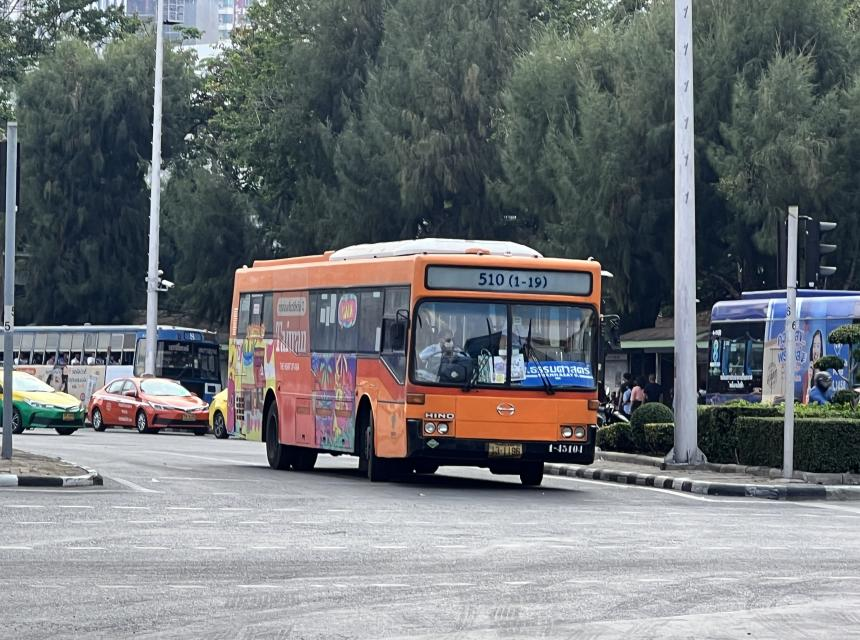BMTA-bus: (228, 240, 605, 489)
Bus Line Number: (471, 267, 552, 293)
Bus Side Number: (543, 440, 590, 456)
Destination Sign: (521, 359, 598, 389)
